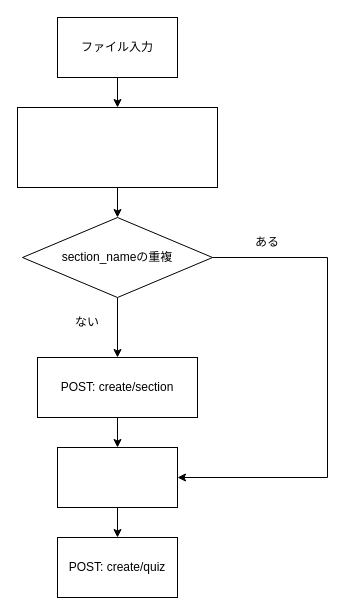
Some shapes in this 353 by 615 pixel diagram are drawn without their labels. The shapes that lost their labels are listed below. From the top down, each one's centre as x and y in pixels, then its label:
At (x=117, y=147): "ファイル名=section_name question answer を取得".
At (x=117, y=477): "section_idを取得".
